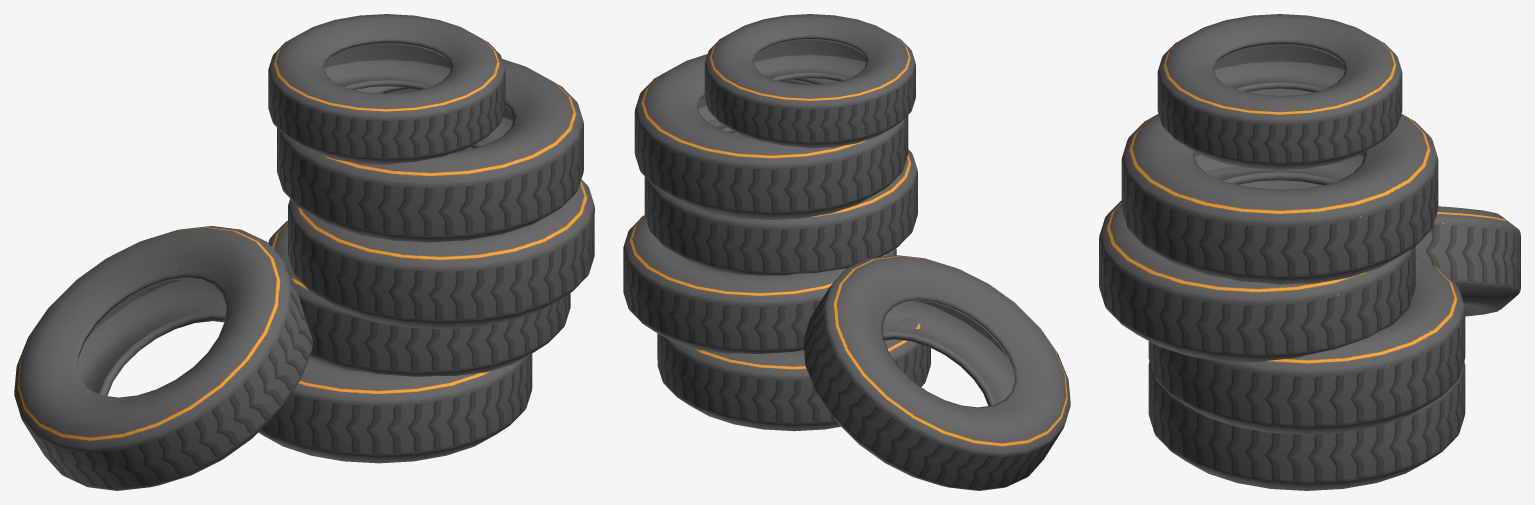
File: banBertumpuk.fbx
3 views of the same model, side by side, from view 1: azimuth 30°, elevation 25°; view 2: azimuth 150°, elevation 25°; view 3: azimuth 270°, elevation 25° (orthographic). The views are drawn at different scales.
Visible parts, largest first — view 1: Ban.005, Ban.004, Ban.003, Ban.002, Ban, Ban.001; view 2: Ban.005, Ban.003, Ban.004, Ban.001, Ban.002, Ban; view 3: Ban.003, Ban.004, Ban.002, Ban.001, Ban, Ban.005.
Part boxes in pixels (left/top/right/bottom): Ban.005: left=14, top=226, right=312, bottom=490; Ban.004: left=268, top=14, right=505, bottom=164; Ban.003: left=277, top=59, right=583, bottom=242; Ban.002: left=288, top=140, right=594, bottom=329; Ban: left=258, top=354, right=532, bottom=463; Ban.001: left=268, top=221, right=570, bottom=376; Ban.005: left=803, top=255, right=1070, bottom=490; Ban.003: left=634, top=54, right=908, bottom=219; Ban.004: left=704, top=14, right=915, bottom=148; Ban.001: left=623, top=215, right=896, bottom=353; Ban.002: left=644, top=119, right=917, bottom=275; Ban: left=657, top=316, right=930, bottom=431; Ban.003: left=1121, top=88, right=1438, bottom=284; Ban.004: left=1157, top=14, right=1402, bottom=169; Ban.002: left=1099, top=166, right=1415, bottom=362; Ban.001: left=1148, top=256, right=1465, bottom=434; Ban: left=1148, top=361, right=1465, bottom=490; Ban.005: left=1415, top=206, right=1520, bottom=316.
Bounding box in the file's own units: 144 × 109 × 105.
Materials: 1 (1 with a texture image).
